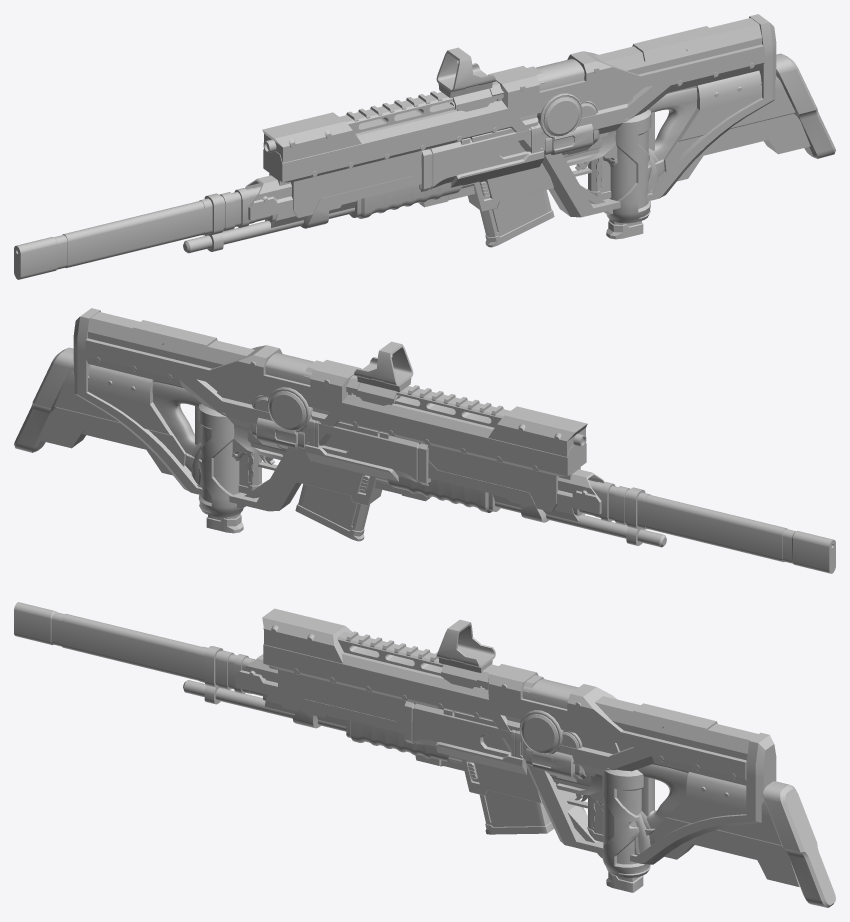
Rendered from weapons.glb.
3 views of the same model, one above another, from view 1: azimuth 30°, elevation 25°; view 2: azimuth 150°, elevation 25°; view 3: azimuth 330°, elevation 25° (orthographic).
Visible parts, largest first — view 1: Gun_Rifle, Gun_Sniper, Gun_Revolver, Prop_Grenade, Gun_Pistol, Gun_Revolver_Barrel, Gun_Sniper_Ammo, Gun_SMG_Ammo; view 2: Gun_Rifle, Gun_Sniper, Gun_Revolver, Prop_Grenade, Gun_Pistol, Gun_Revolver_Barrel, Gun_Sniper_Ammo, Gun_SMG_Ammo; view 3: Gun_Rifle, Gun_Sniper, Gun_Revolver, Prop_Grenade, Gun_Pistol, Gun_Revolver_Barrel, Gun_Sniper_Ammo.
Boxes of the visible parts, x1,y1,x2,y2 form: Gun_Rifle: [262, 14, 776, 227]; Gun_Sniper: [14, 53, 835, 279]; Gun_Revolver: [419, 123, 663, 214]; Prop_Grenade: [596, 110, 651, 223]; Gun_Pistol: [460, 91, 658, 193]; Gun_Revolver_Barrel: [544, 123, 599, 156]; Gun_Sniper_Ammo: [587, 111, 654, 199]; Gun_SMG_Ammo: [606, 219, 643, 239]; Gun_Rifle: [73, 308, 587, 521]; Gun_Sniper: [14, 347, 835, 573]; Gun_Revolver: [186, 417, 430, 508]; Prop_Grenade: [198, 404, 253, 517]; Gun_Pistol: [191, 385, 389, 487]; Gun_Revolver_Barrel: [250, 417, 305, 450]; Gun_Sniper_Ammo: [195, 405, 262, 493]; Gun_SMG_Ammo: [206, 513, 243, 533]; Gun_Rifle: [262, 608, 776, 864]; Gun_Sniper: [14, 602, 835, 907]; Gun_Revolver: [404, 701, 654, 858]; Prop_Grenade: [589, 769, 650, 877]; Gun_Pistol: [443, 708, 650, 855]; Gun_Revolver_Barrel: [526, 748, 585, 782]; Gun_Sniper_Ammo: [587, 776, 654, 841].
Bounding box in the file's own units: 1.72 × 0.4426 × 0.087.
3 materials, 3 textured.
